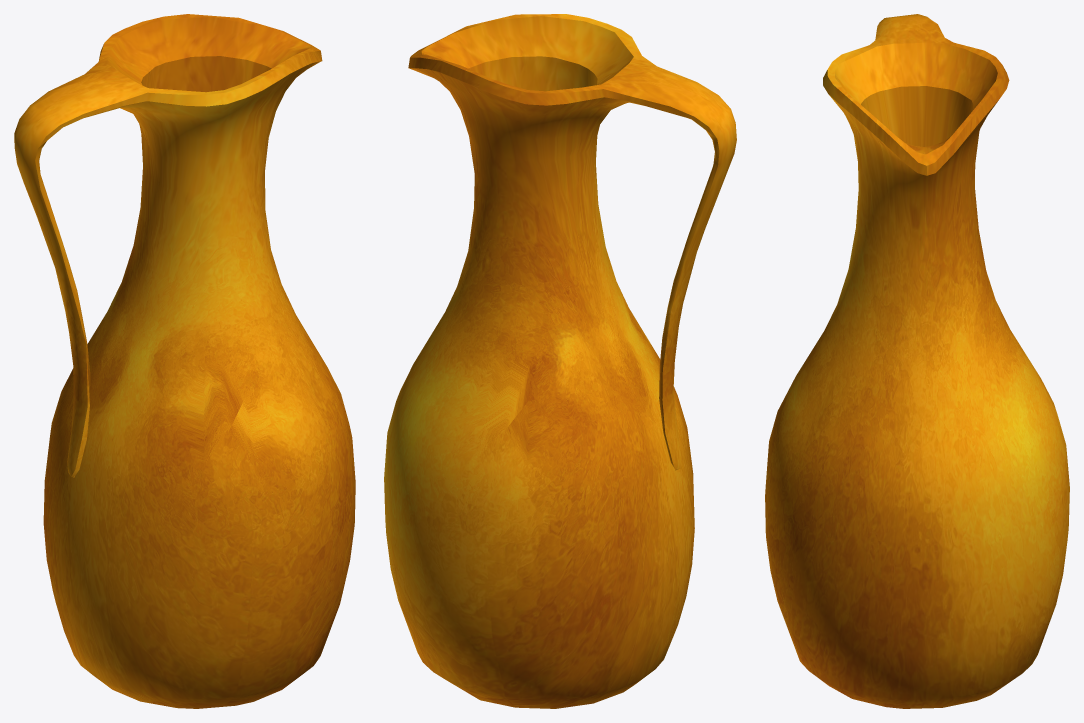
The model's file is Jar.FBX.
3 views of the same model, side by side, from view 1: azimuth 30°, elevation 25°; view 2: azimuth 150°, elevation 25°; view 3: azimuth 270°, elevation 25° (orthographic). The views are drawn at different scales.
Parts seen in each view (by area): view 1: Jar; view 2: Jar; view 3: Jar.
Part boxes in pixels (<box>): Jar: <box>14,14,355,708</box>; Jar: <box>384,14,736,708</box>; Jar: <box>765,14,1069,708</box>.
Size of the model in its own units: 26.7 by 48.98 by 22.73.
Materials: 1 (1 with a texture image).
